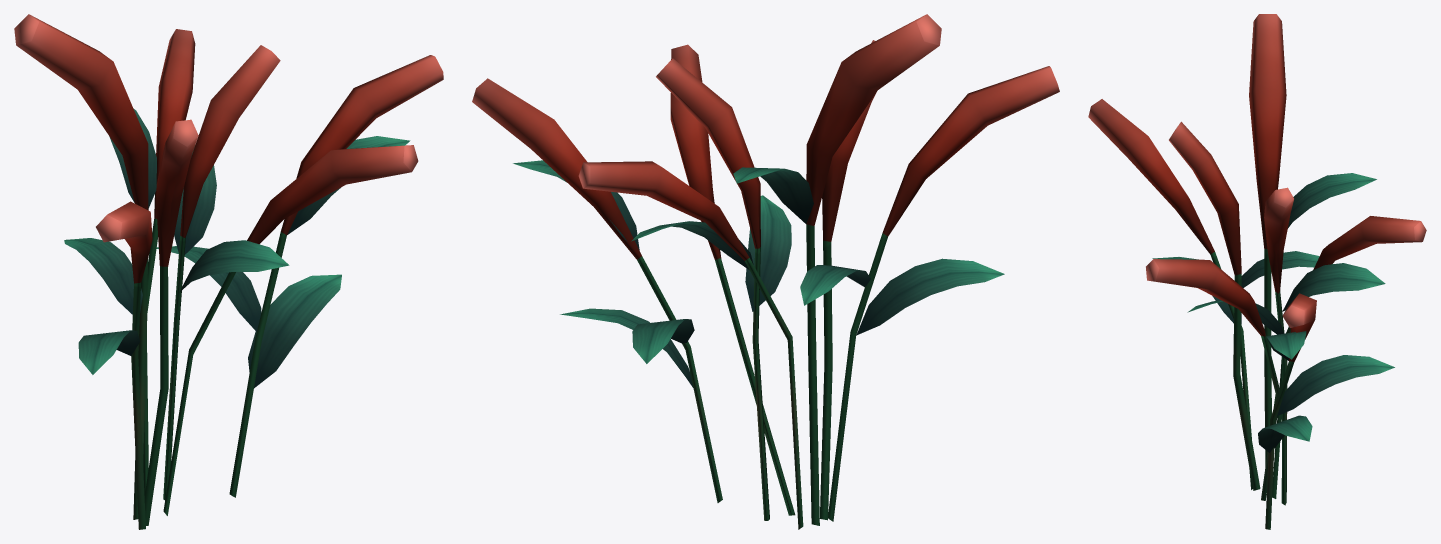
File: Snake_plant_02.fbx
3 views of the same model, side by side, from view 1: azimuth 30°, elevation 25°; view 2: azimuth 150°, elevation 25°; view 3: azimuth 270°, elevation 25° (orthographic). The views are drawn at different scales.
Visible parts, largest first — view 1: Snake_plant_02; view 2: Snake_plant_02; view 3: Snake_plant_02.
Part boxes in pixels (x1,y1,x2,y2): Snake_plant_02: (14, 14, 443, 529); Snake_plant_02: (472, 14, 1059, 529); Snake_plant_02: (1088, 14, 1426, 529).
Size of the model in its own units: 171 by 189 by 132.
